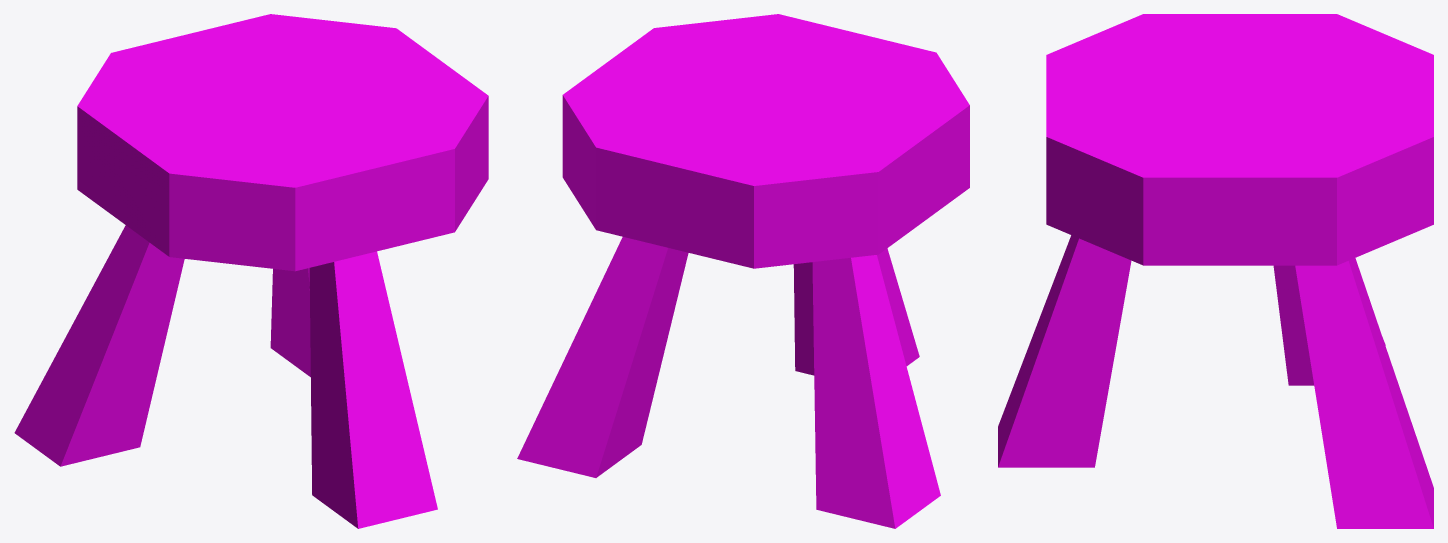
File: stool.obj
3 views of the same model, side by side, from view 1: azimuth 30°, elevation 25°; view 2: azimuth 150°, elevation 25°; view 3: azimuth 270°, elevation 25° (orthographic). The views are drawn at different scales.
Visible parts, largest first — view 1: stool_back; view 2: stool_back; view 3: stool_back.
Part boxes in pixels (left/top/right/bottom): stool_back: left=14, top=14, right=488, bottom=528; stool_back: left=517, top=14, right=969, bottom=528; stool_back: left=998, top=14, right=1433, bottom=528.
Size of the model in its own units: 0.72 by 0.64 by 0.72.
